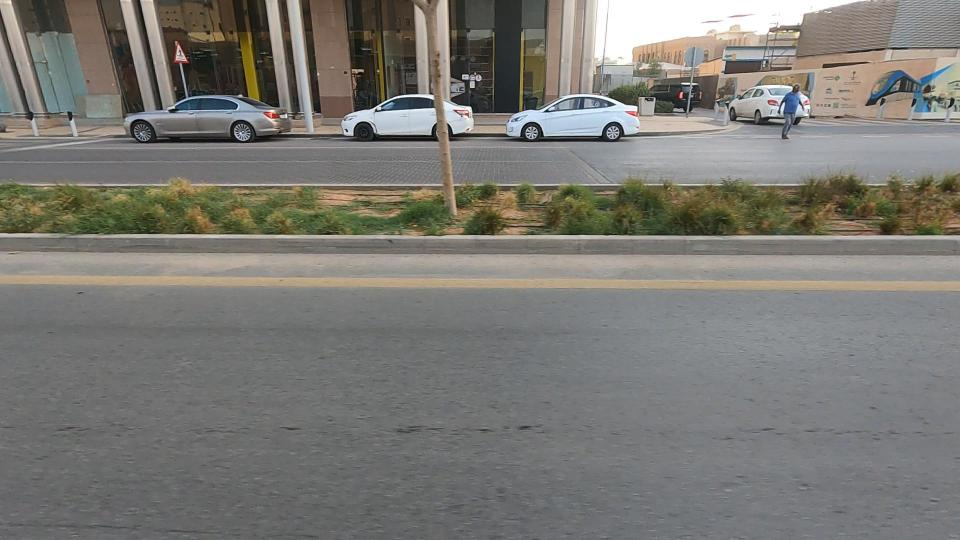BAD_BILLBOARD: (743, 39, 960, 151)
